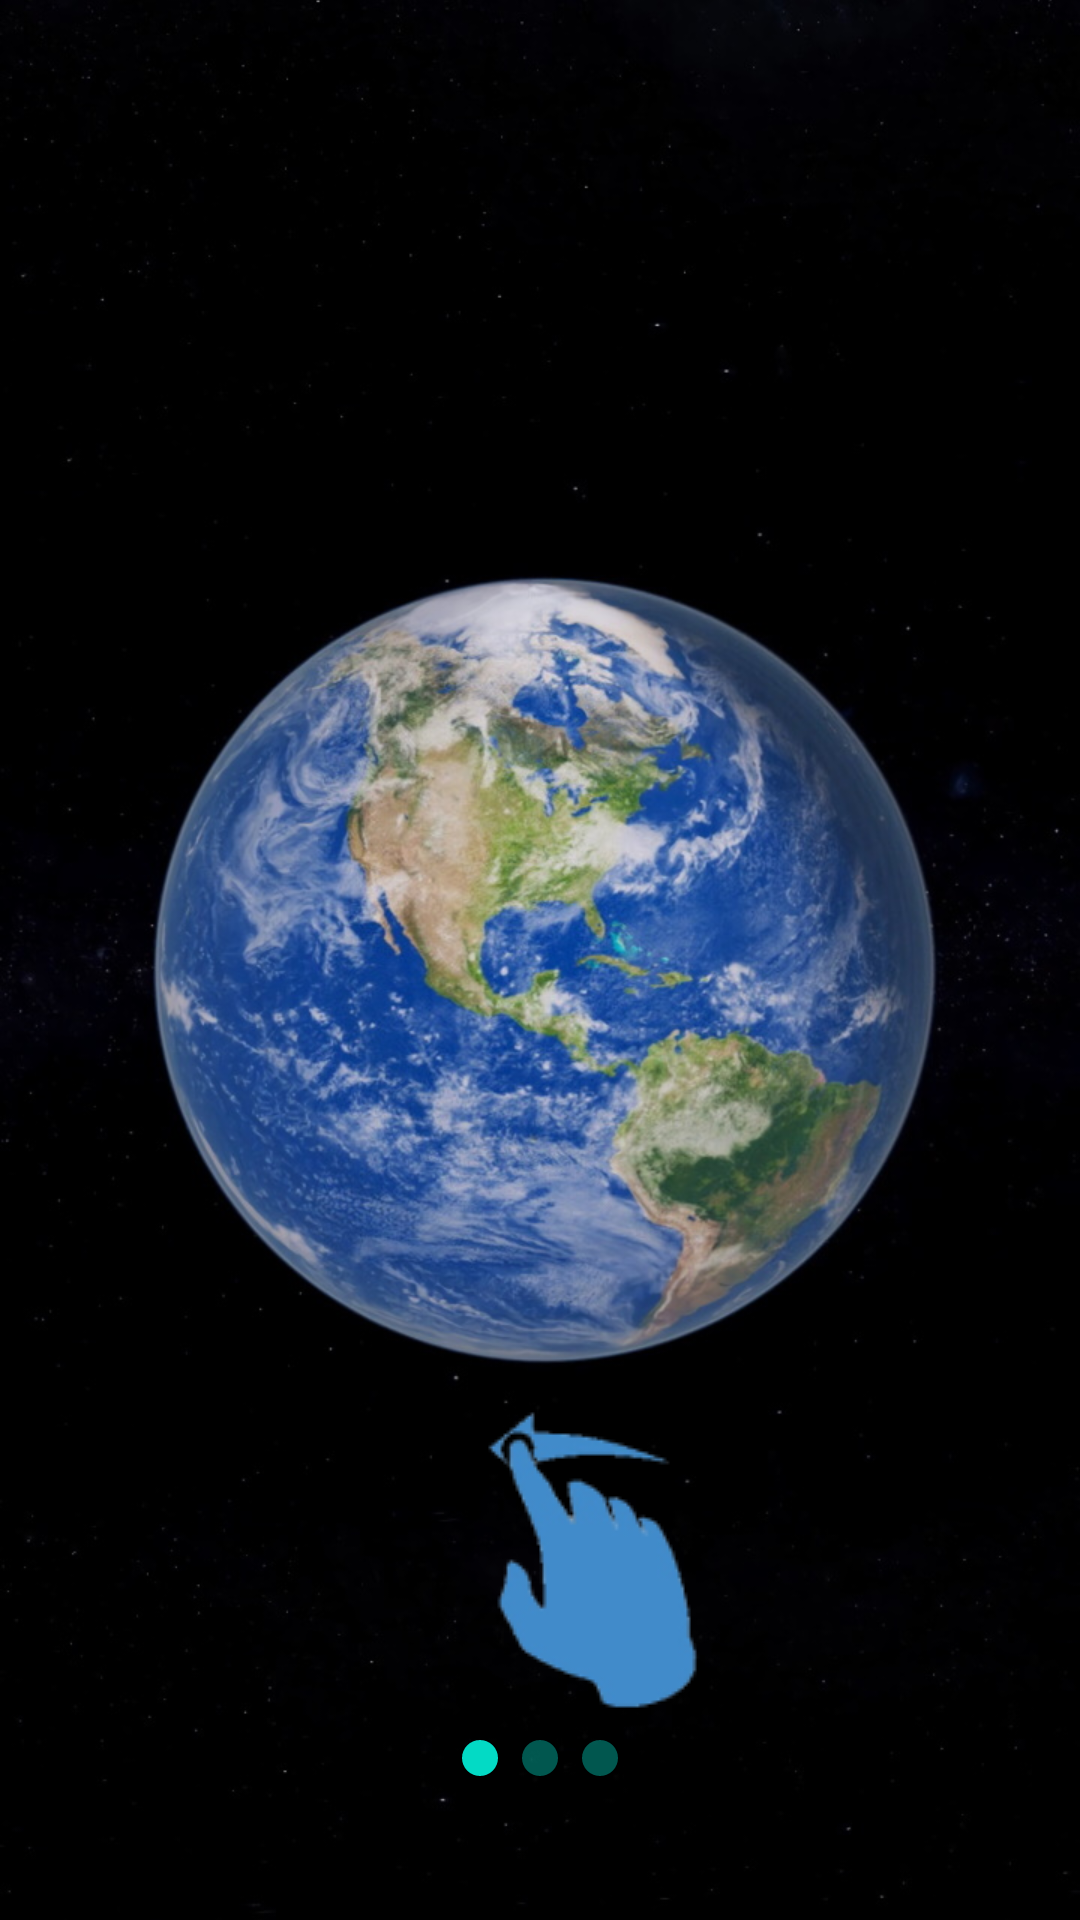

Screen size 1080px x 1920px. Icon name, then its center in pixels as point (x, y):
swipe: point (564, 1554)
